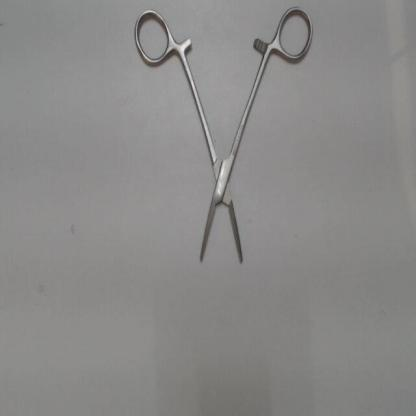Mayo Needle Holder: (130, 1, 318, 274)
